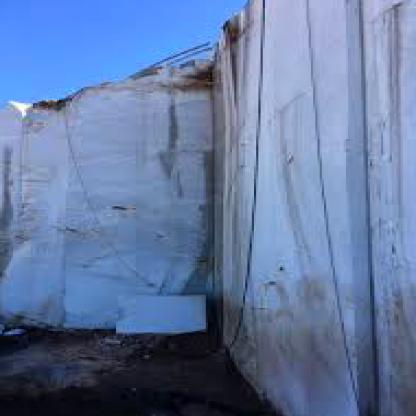Metamorphic_Quartize: (0, 31, 235, 366)
